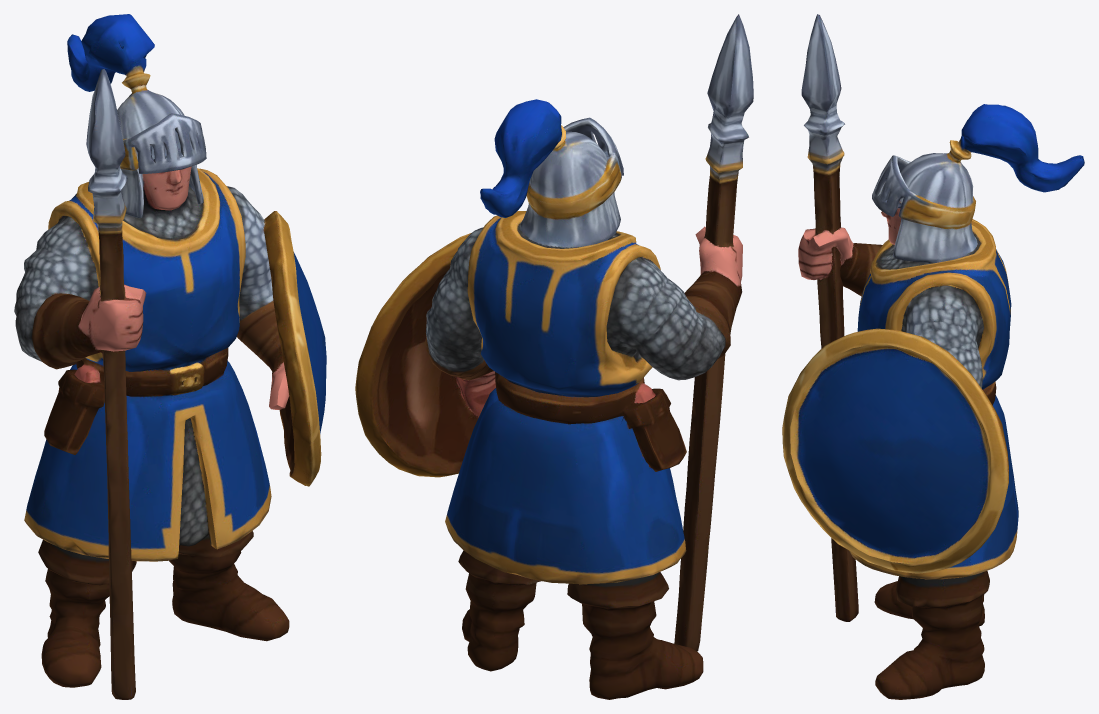
Rendered from spearman.glb.
3 renders of one model, left to right at view 1: azimuth 30°, elevation 25°; view 2: azimuth 150°, elevation 25°; view 3: azimuth 270°, elevation 25°, orthographic. The views are drawn at different scales.
Visible parts, largest first — view 1: world; view 2: world; view 3: world.
Boxes of the visible parts, bbox=[...] form: world: bbox=[14, 14, 326, 699]; world: bbox=[355, 14, 753, 699]; world: bbox=[782, 14, 1084, 699].
Size of the model in its own units: 0.5155 by 0.9996 by 0.4652.
1 material, 1 textured.
